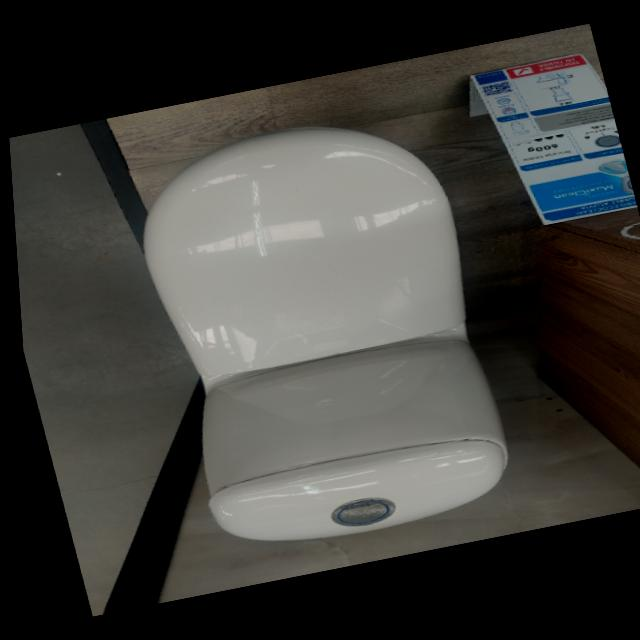toilet: (114, 101, 526, 562)
